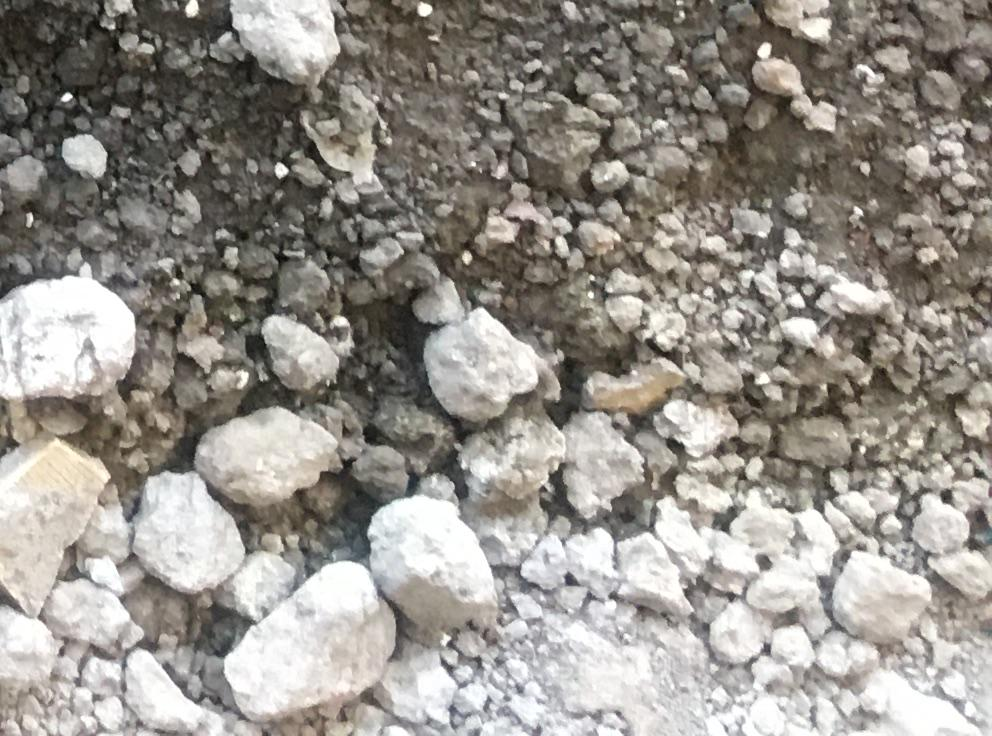block: (222, 566, 397, 722), (362, 489, 507, 635), (1, 437, 117, 618), (1, 276, 141, 400), (190, 406, 345, 510), (129, 464, 249, 595), (418, 313, 532, 425), (825, 543, 933, 653), (231, 1, 347, 90)
